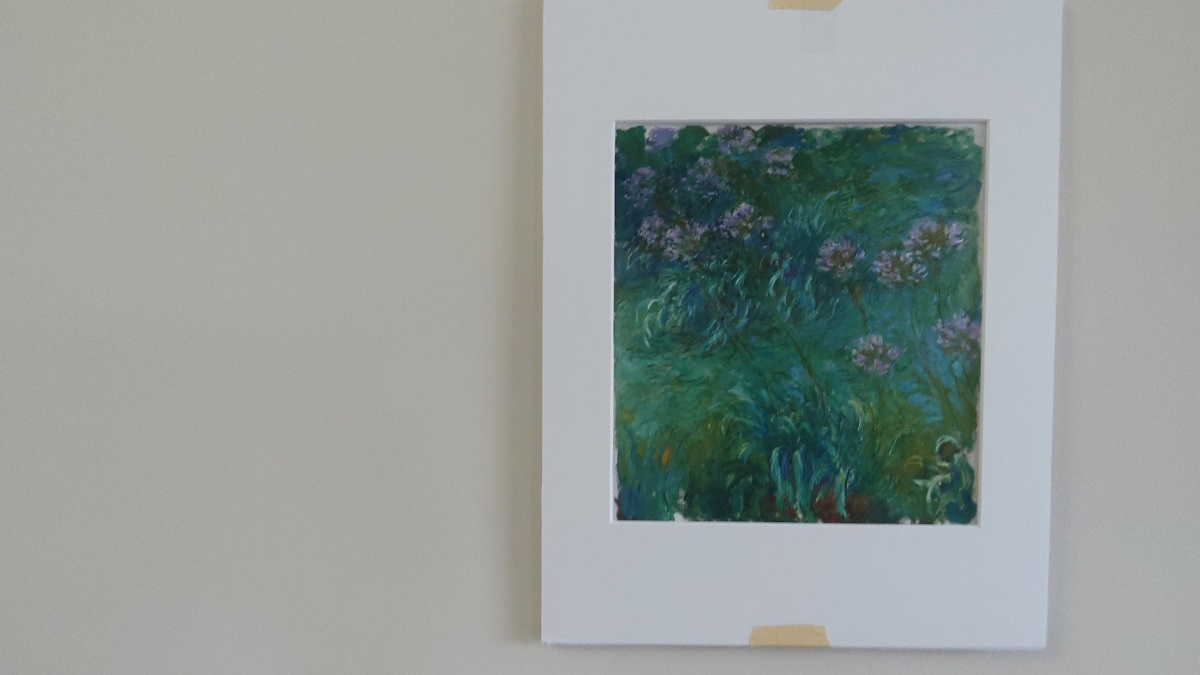painting: (602, 107, 994, 541)
